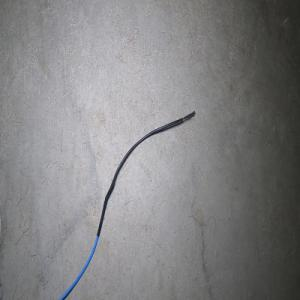Wire: (58, 110, 195, 300)
